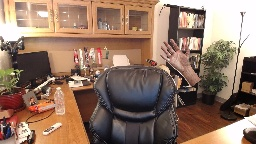Mano_aperta: (157, 37, 191, 71)
